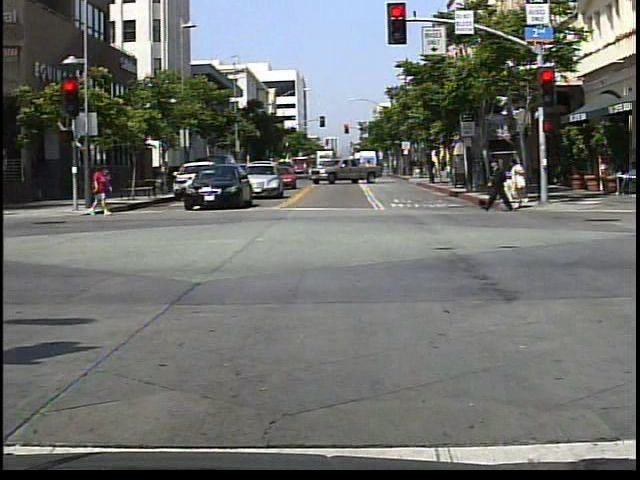person: (487, 157, 517, 216), (510, 152, 535, 215), (613, 152, 639, 196), (91, 161, 110, 220)
